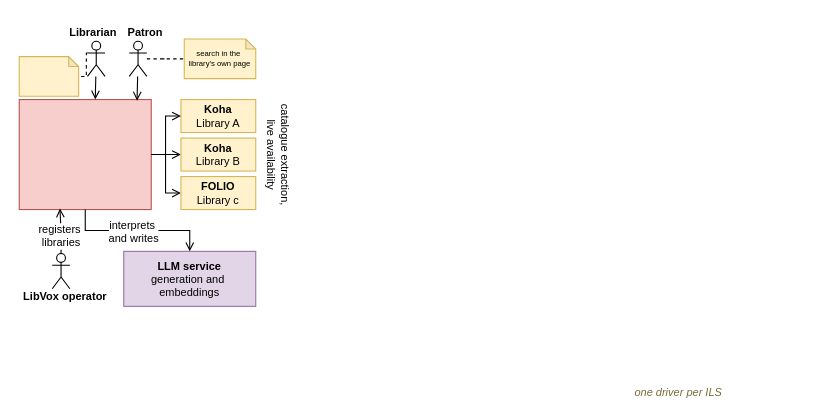
Image size: 824x419. Some labels were removed from this diagram. Each missing label, with the centre of its shape:
configures ILS credentials: point 48,76
LibVox multi-tenant conversational layer: point 84,154
